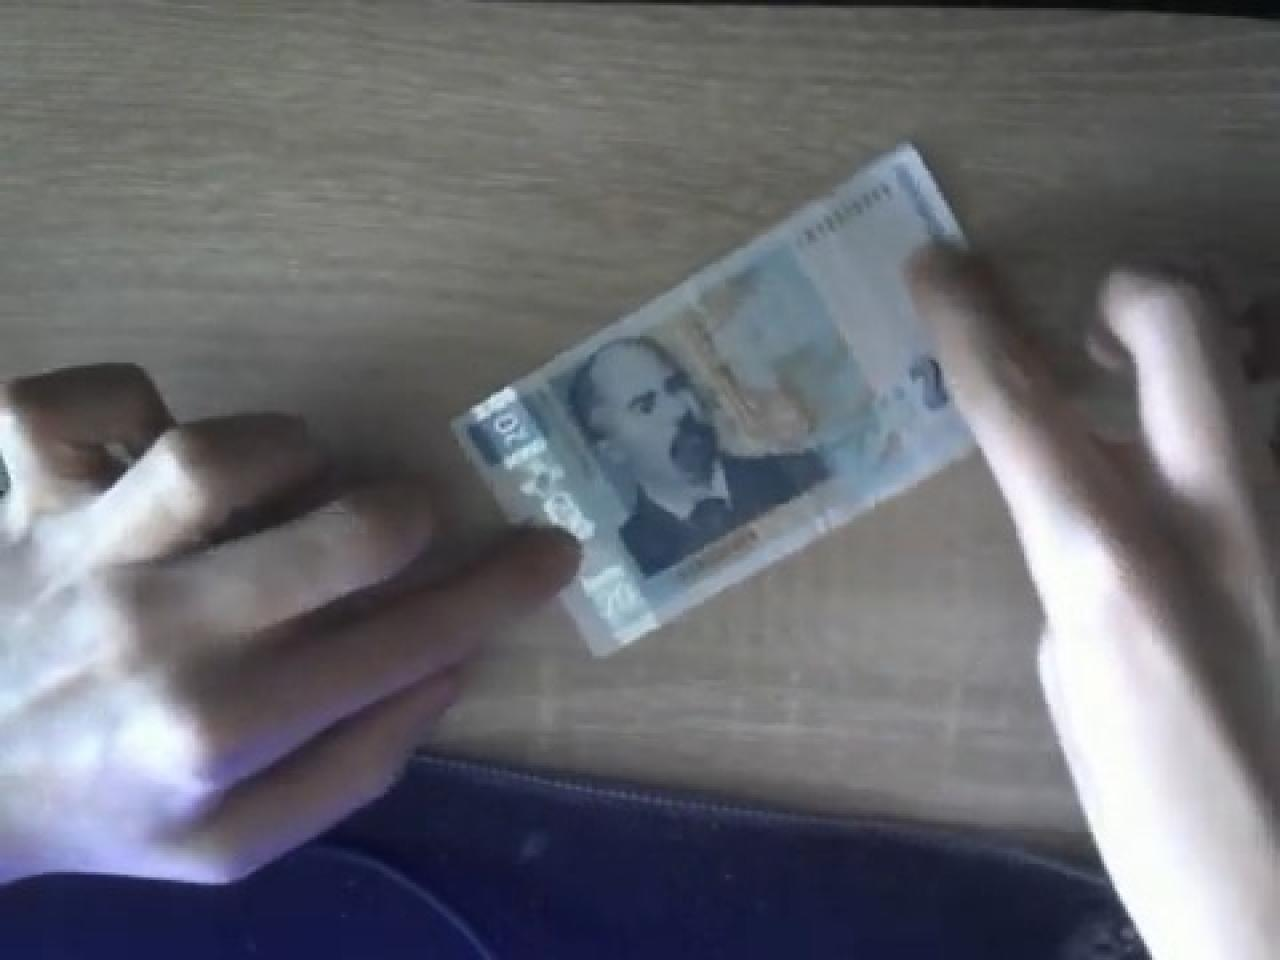20leva: (451, 141, 985, 664)
